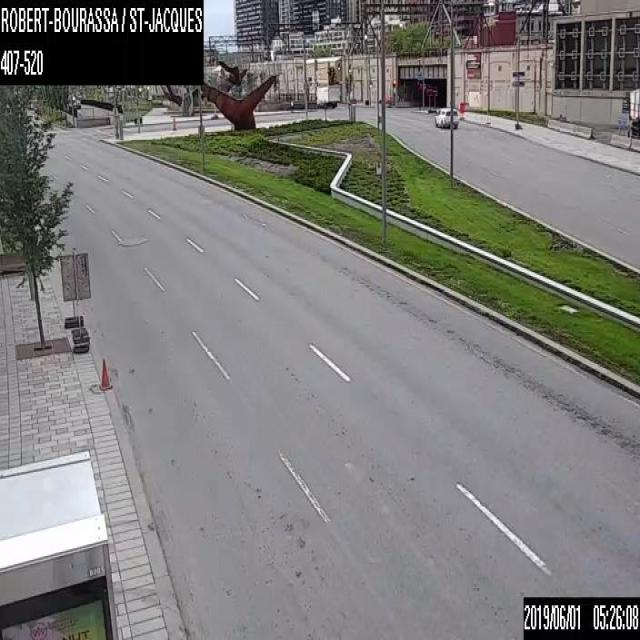construction: (100, 356, 110, 389), (456, 100, 463, 113)
vehicle: (315, 83, 340, 107), (434, 104, 458, 128)
